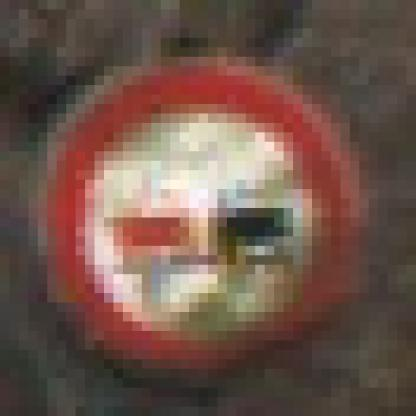No Overtaking: (48, 48, 370, 370)
